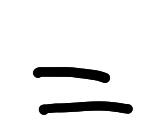eqv: (29, 62, 138, 116)
